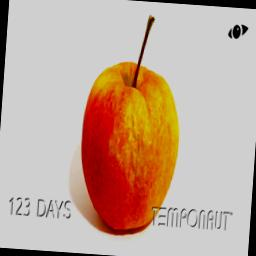Apple Unripe: (74, 0, 189, 238)
